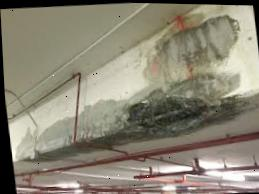exposed_rebar: (78, 14, 252, 140), (36, 117, 74, 153), (16, 127, 35, 159)
